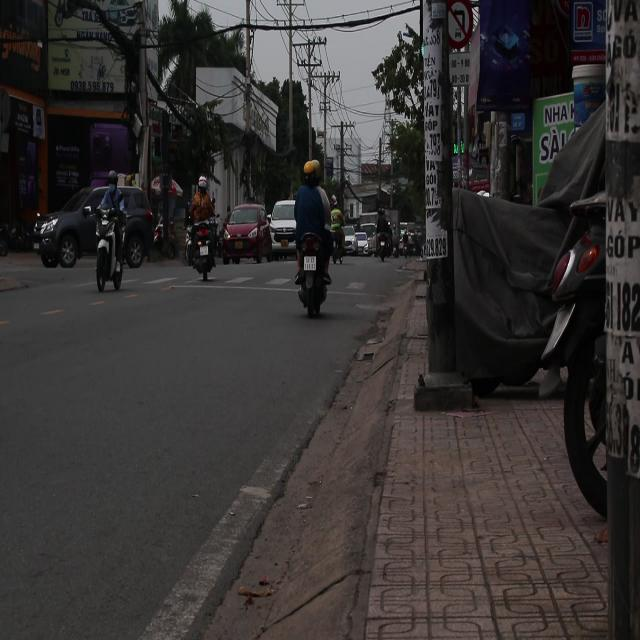car: (31, 184, 159, 269), (220, 205, 274, 264), (269, 200, 295, 248), (355, 230, 371, 254)
motorbike: (294, 230, 332, 319), (183, 214, 220, 280)
